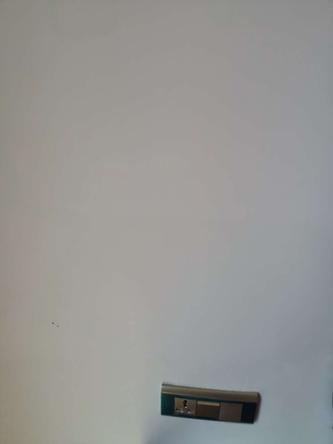switch: (193, 400, 219, 419), (221, 403, 244, 423)
